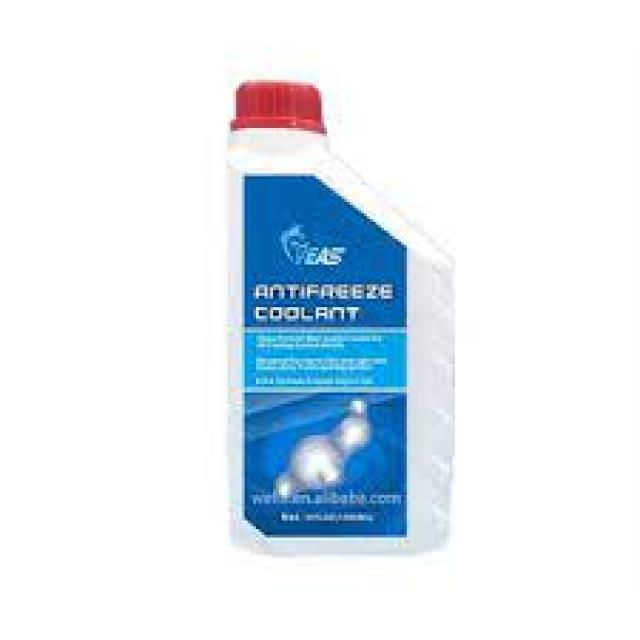coolant: (216, 72, 466, 560)
